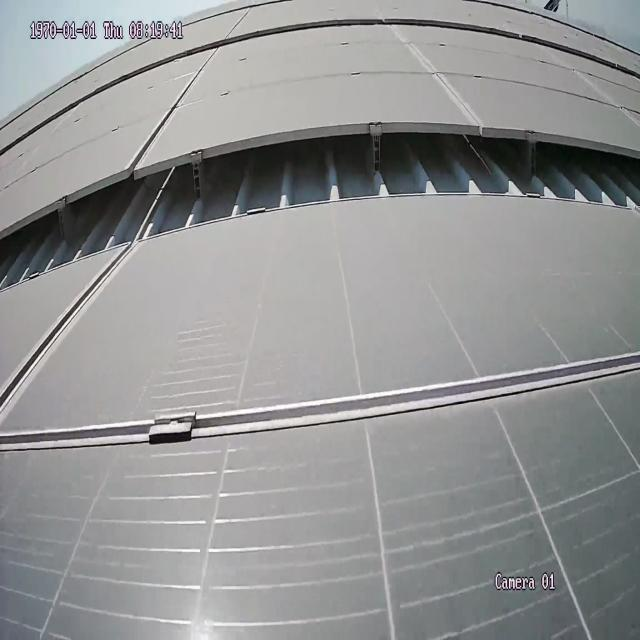interior panel: (0, 258, 636, 462), (132, 50, 218, 154), (393, 35, 479, 112)
outher panel: (2, 121, 637, 291)
